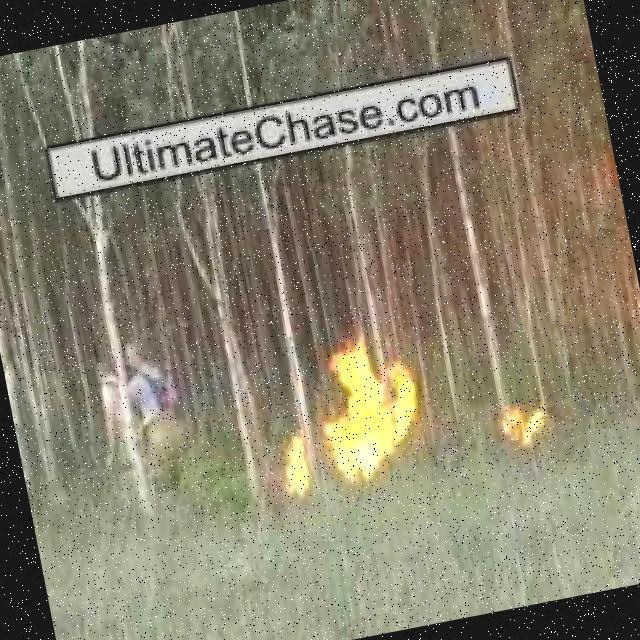Fire: (310, 340, 430, 481), (496, 394, 554, 456), (277, 425, 315, 504)
